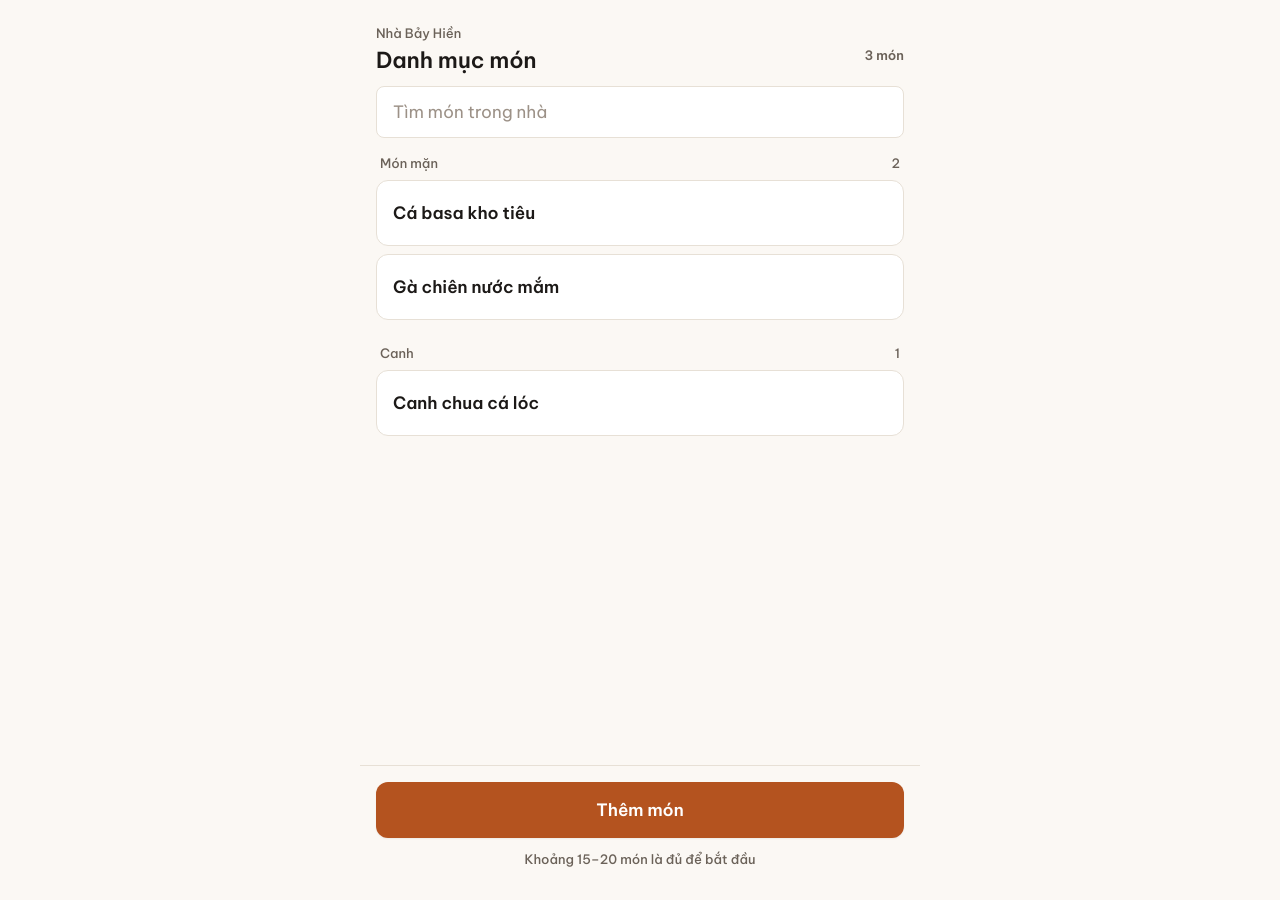
Test: DishCatalogScreen (S-05) › inGroup reuse: bấm Dùng món này từ panel trùng lặp đóng sheet và hiện toast với dấu em-dash
Step 1. Click the button "Thêm món" → coordinates (640, 810), box [376,782,904,838]
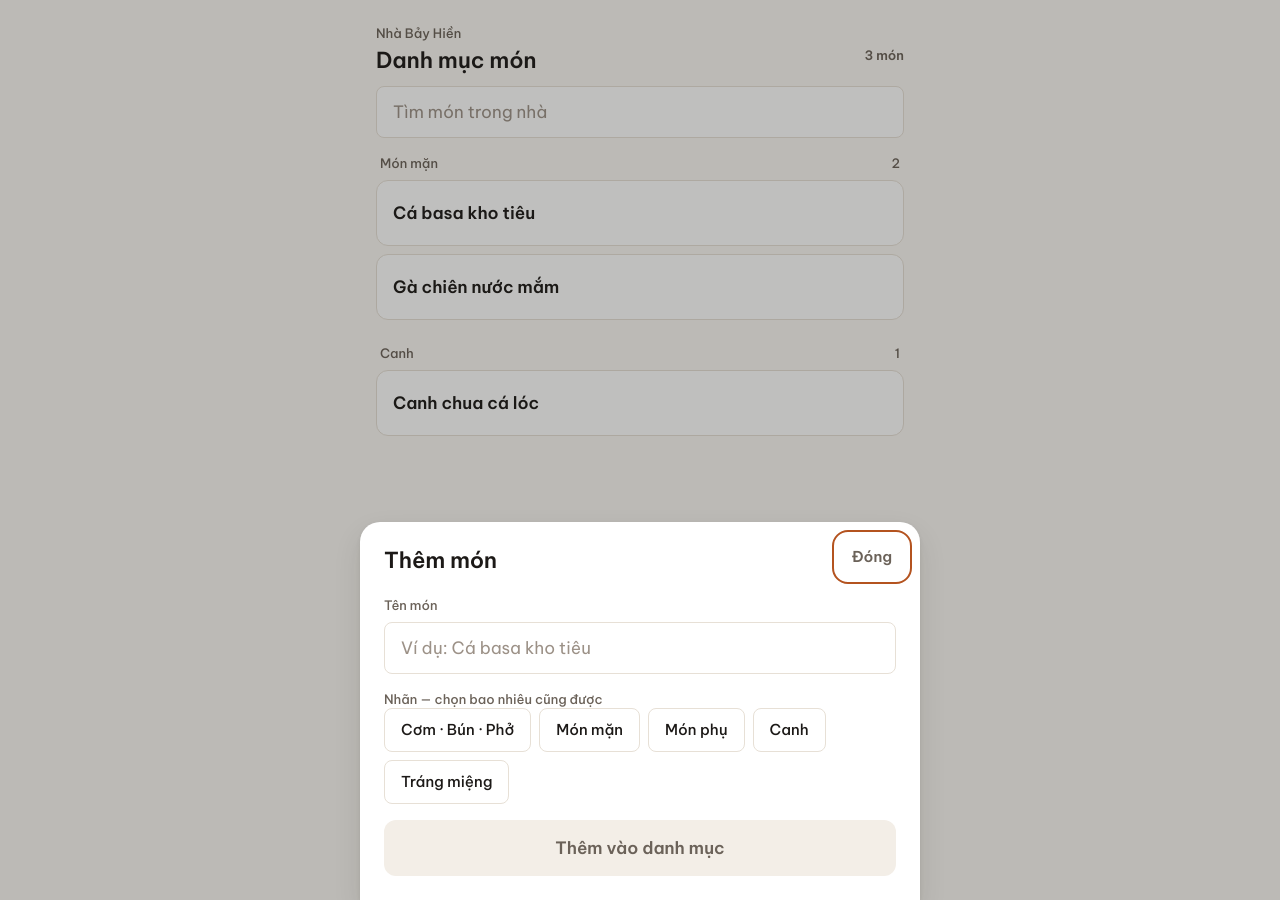
Step 2. Type "canh chua" into the field labelled "Tên món" → coordinates (640, 648), box [384,622,896,674]
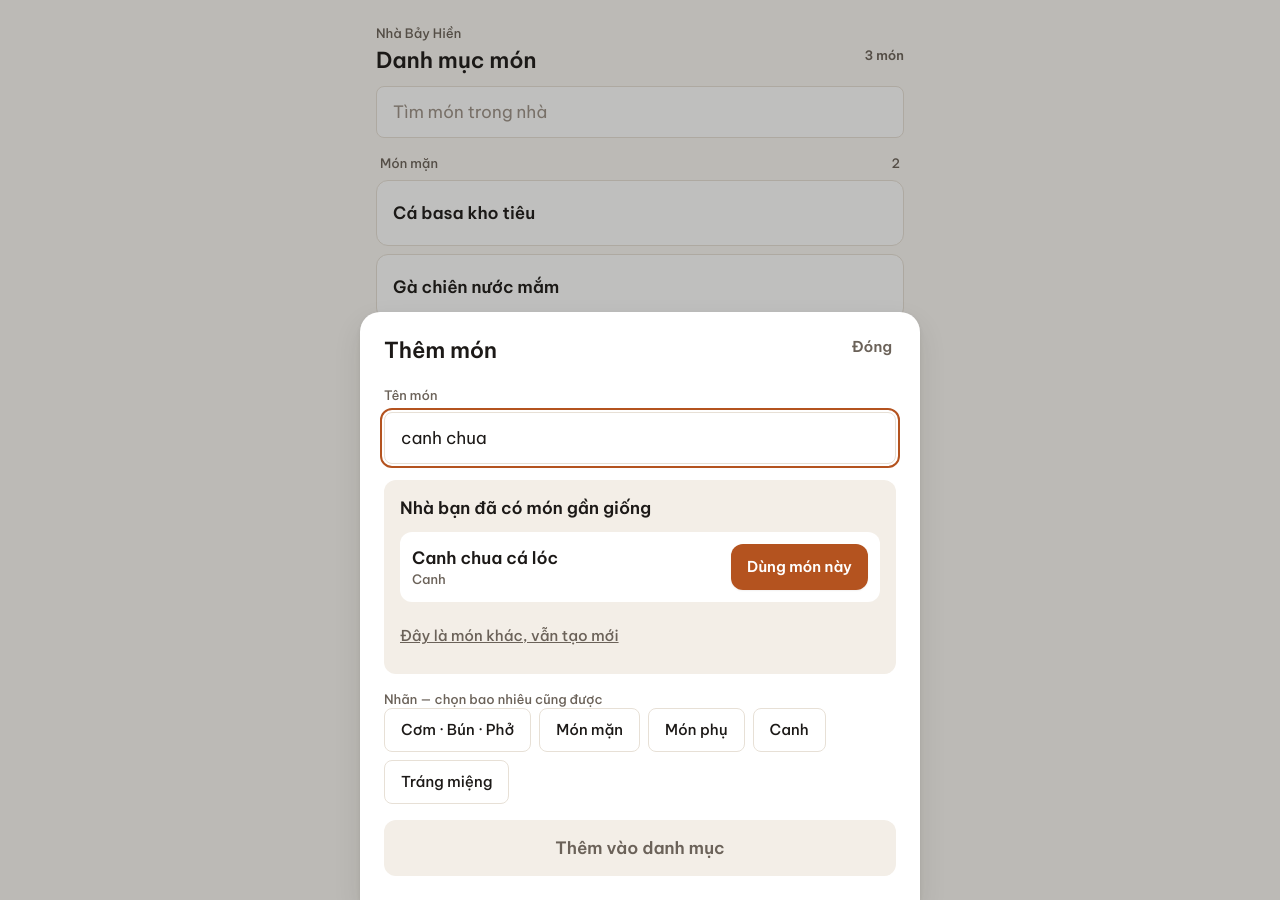
Now the heading "Nhà bạn đã có món gần giống" is shown, box [400,497,651,519]
Step 3. Click the button "Dùng món này" → coordinates (800, 567), box [731,544,868,590]
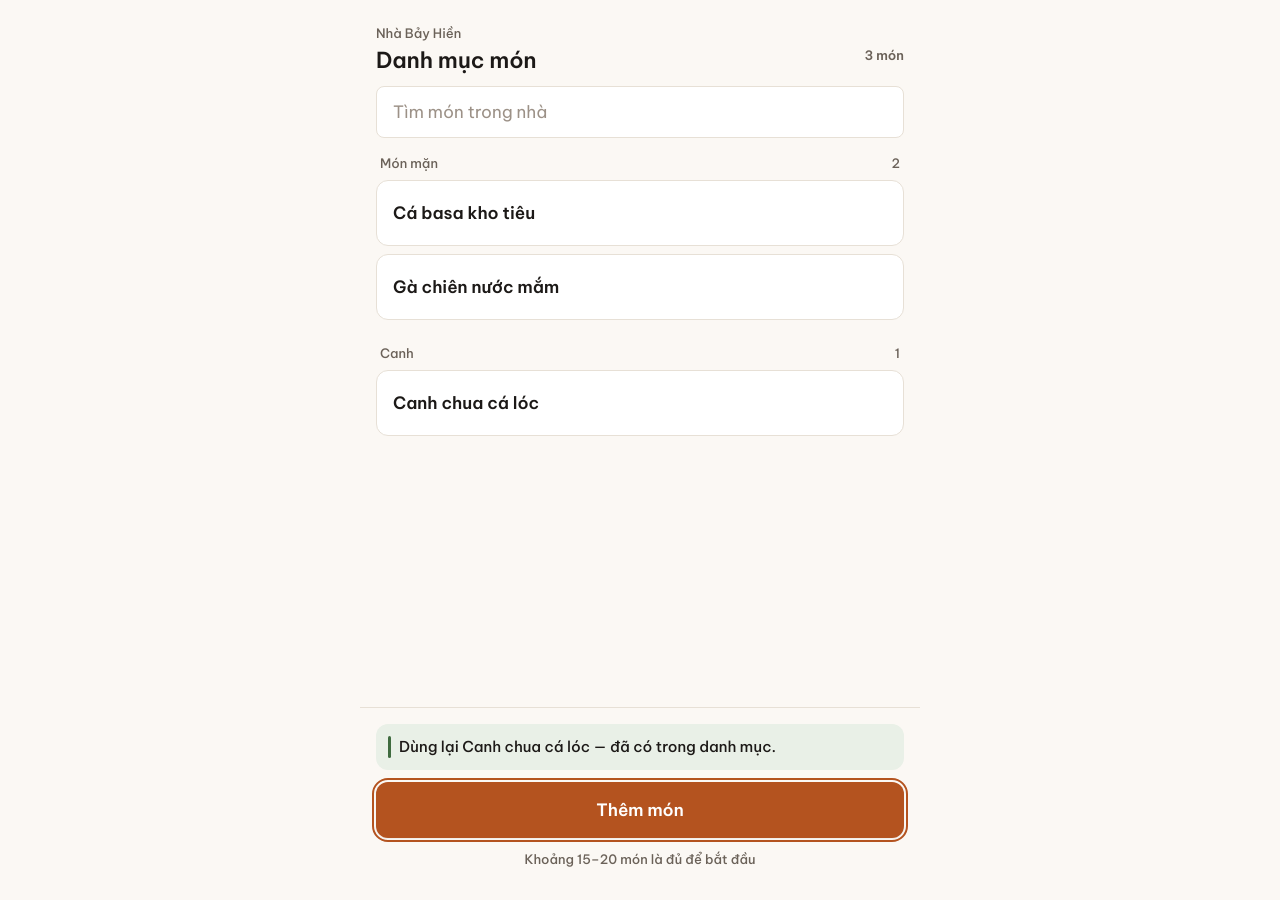
Now the dialog is gone
Now the message "Dùng lại Canh chua cá lóc — đã có trong danh mục." is shown, box [376,724,904,770]
Now the text "Dùng lại Canh chua cá lóc — đã có trong danh mục." is shown, box [399,736,776,758]
